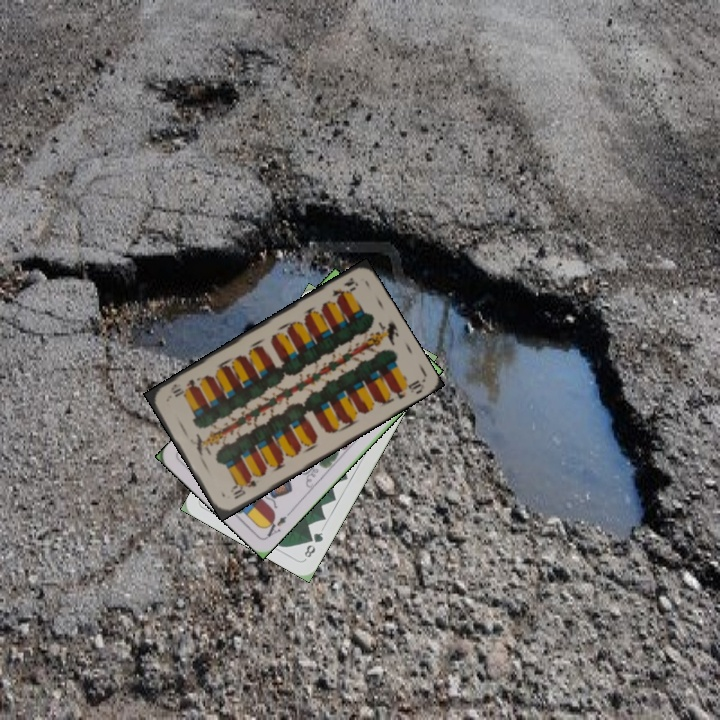E10: (325, 273, 361, 306), (227, 475, 259, 502)
EA: (259, 512, 289, 540)
G8: (300, 528, 326, 560)
